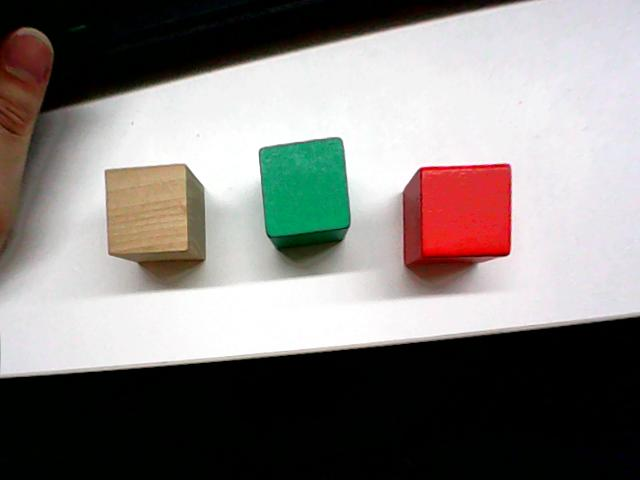green_box: (255, 133, 353, 252)
raw_box: (101, 159, 208, 265)
red_box: (399, 158, 515, 268)
